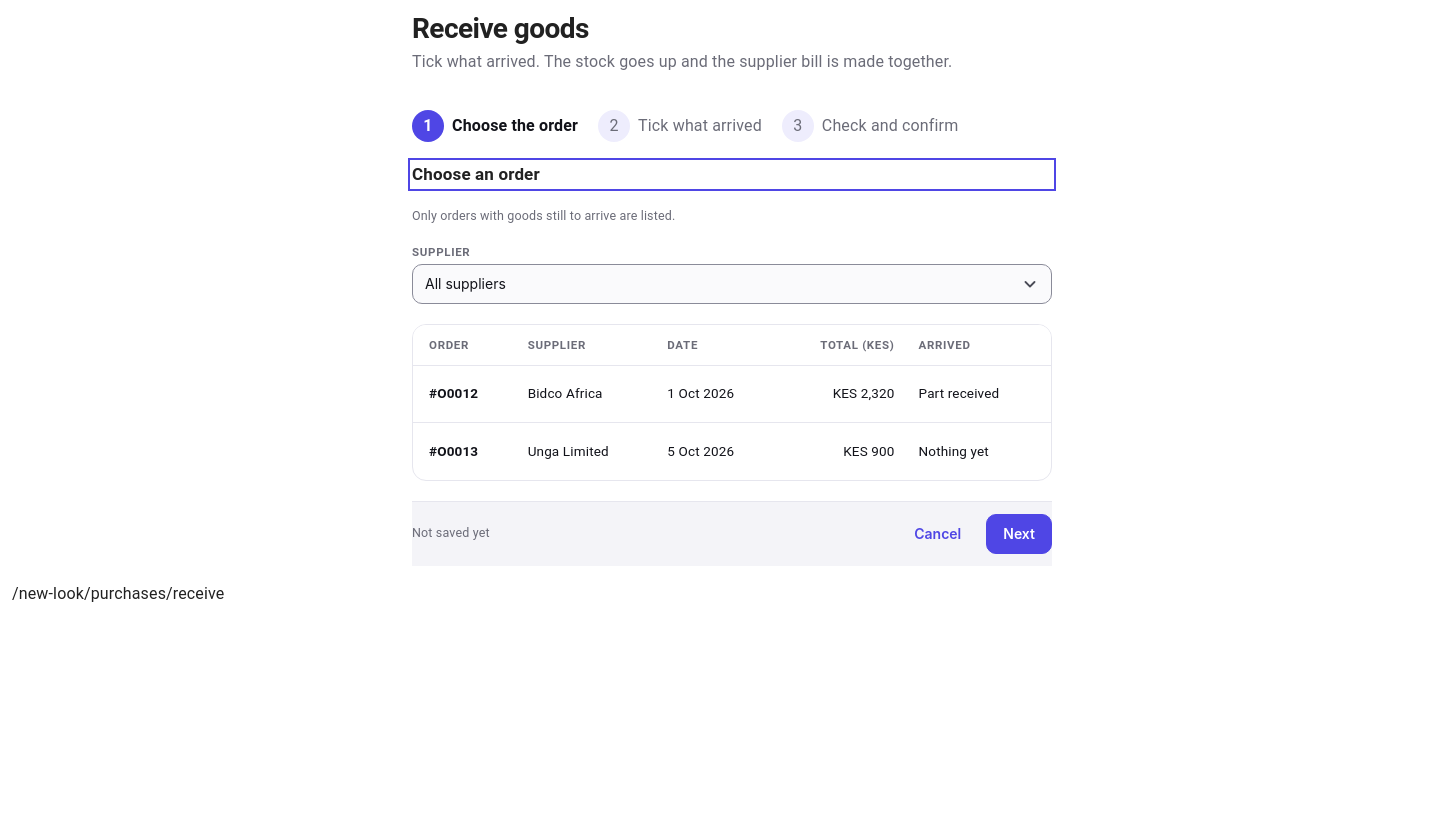
Scenario: step 2: tick what arrived and enter the quantity received › exactly what is still to arrive is accepted
Click the row "#O0012 Bidco Africa 1 Oct 2026 KES 2,320 Part received" at (732, 394), box [413,366,1051,423]
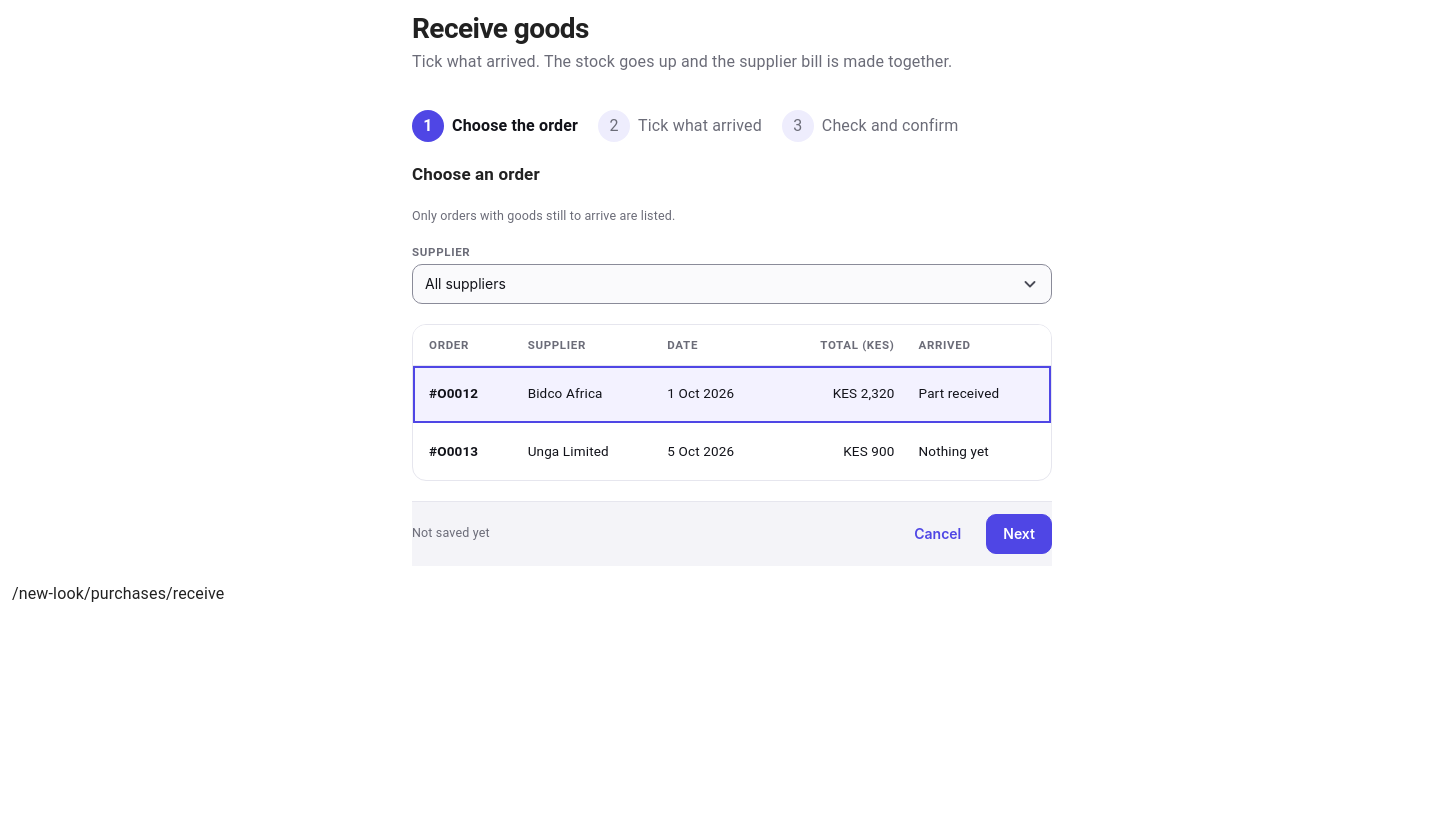
Click the button "Next" at (1019, 534), box [986,514,1052,554]
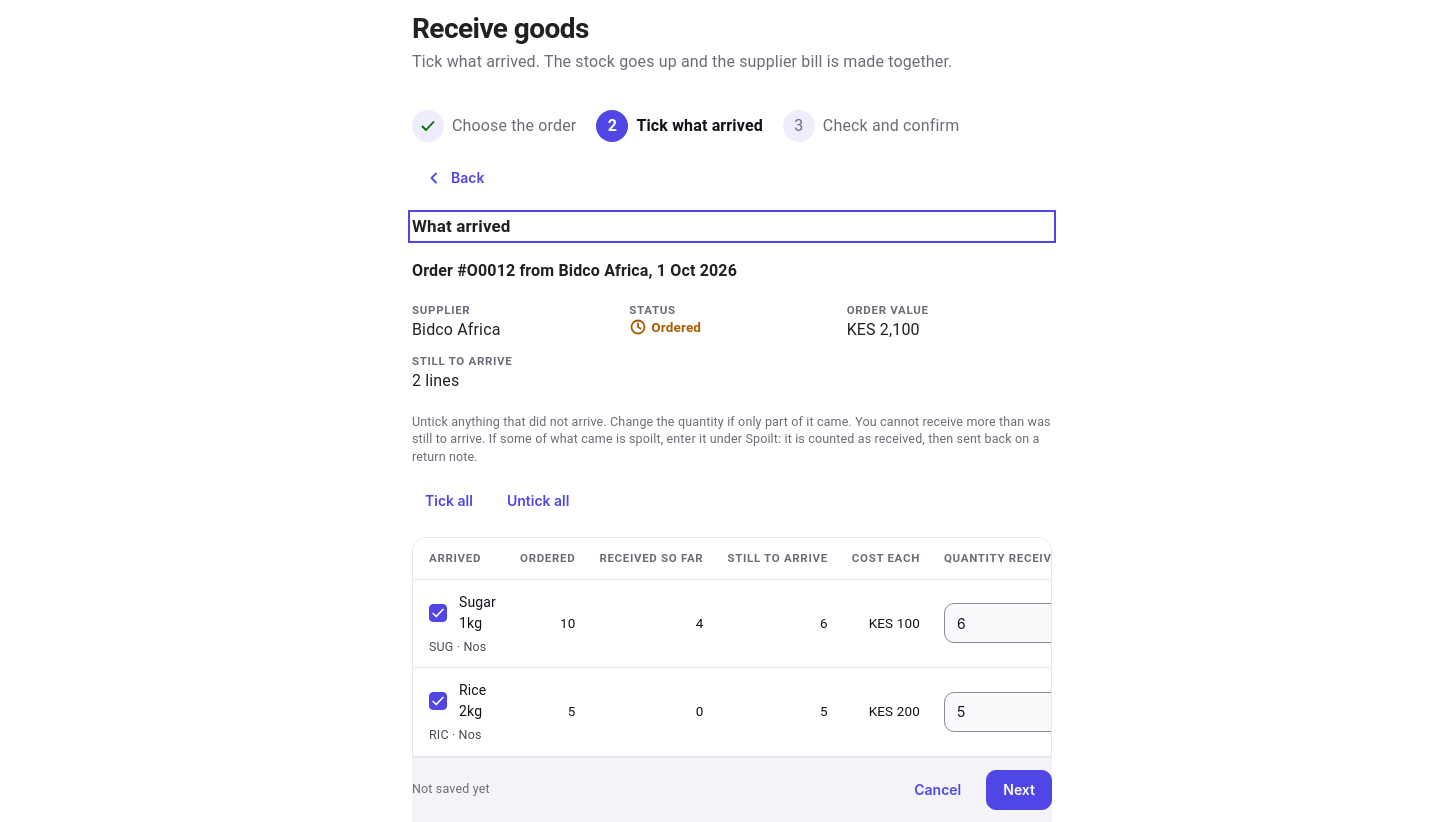
Now the heading "What arrived" is shown, box [412,216,511,236]
Click the button "Next" at (1019, 790), box [986,770,1052,810]
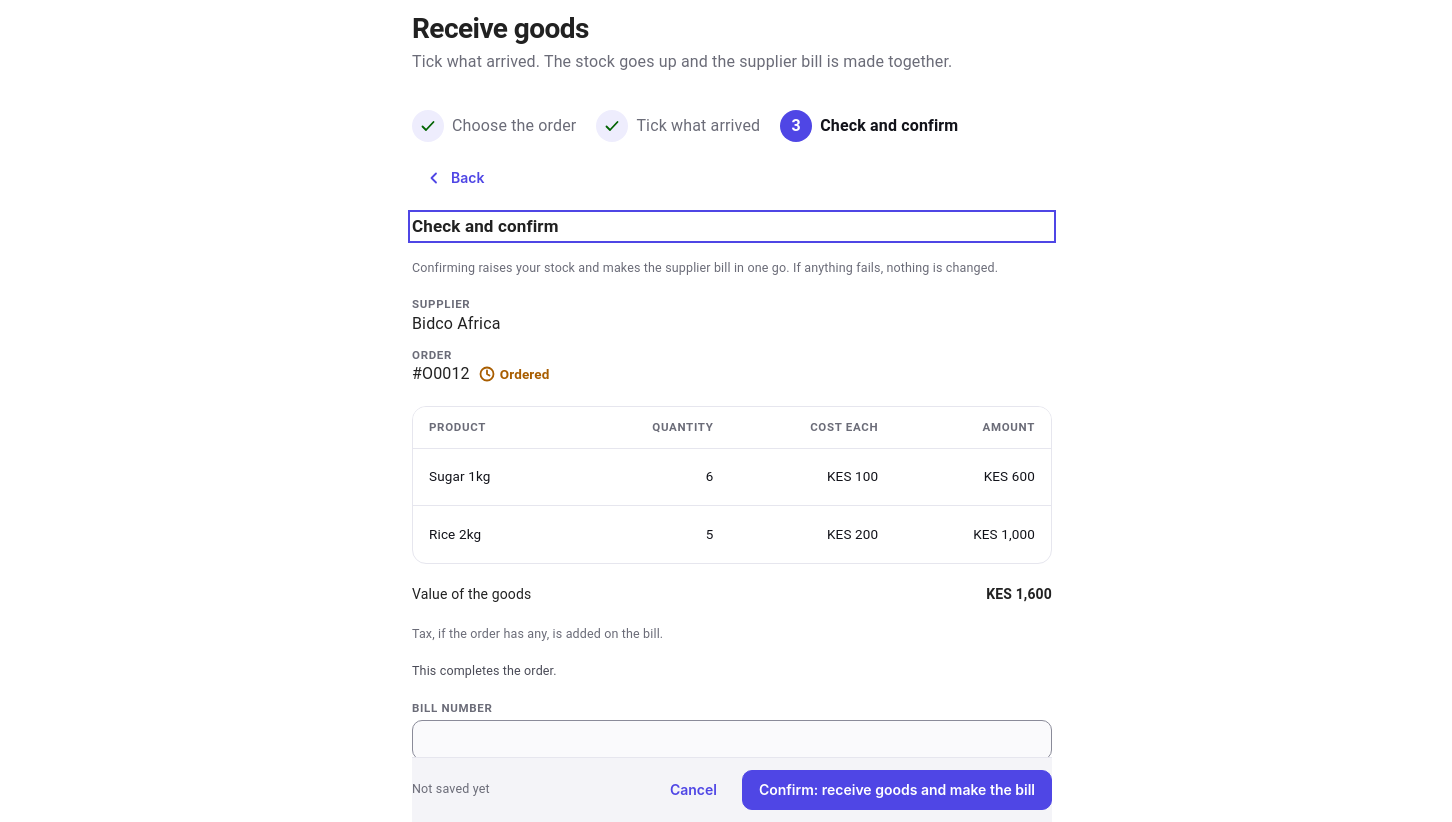
Now the heading "Check and confirm" is shown, box [412,216,559,236]
